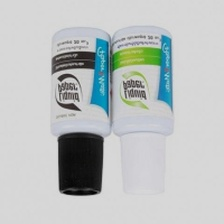correction_fluid: (107, 23, 176, 195), (48, 24, 112, 199)
